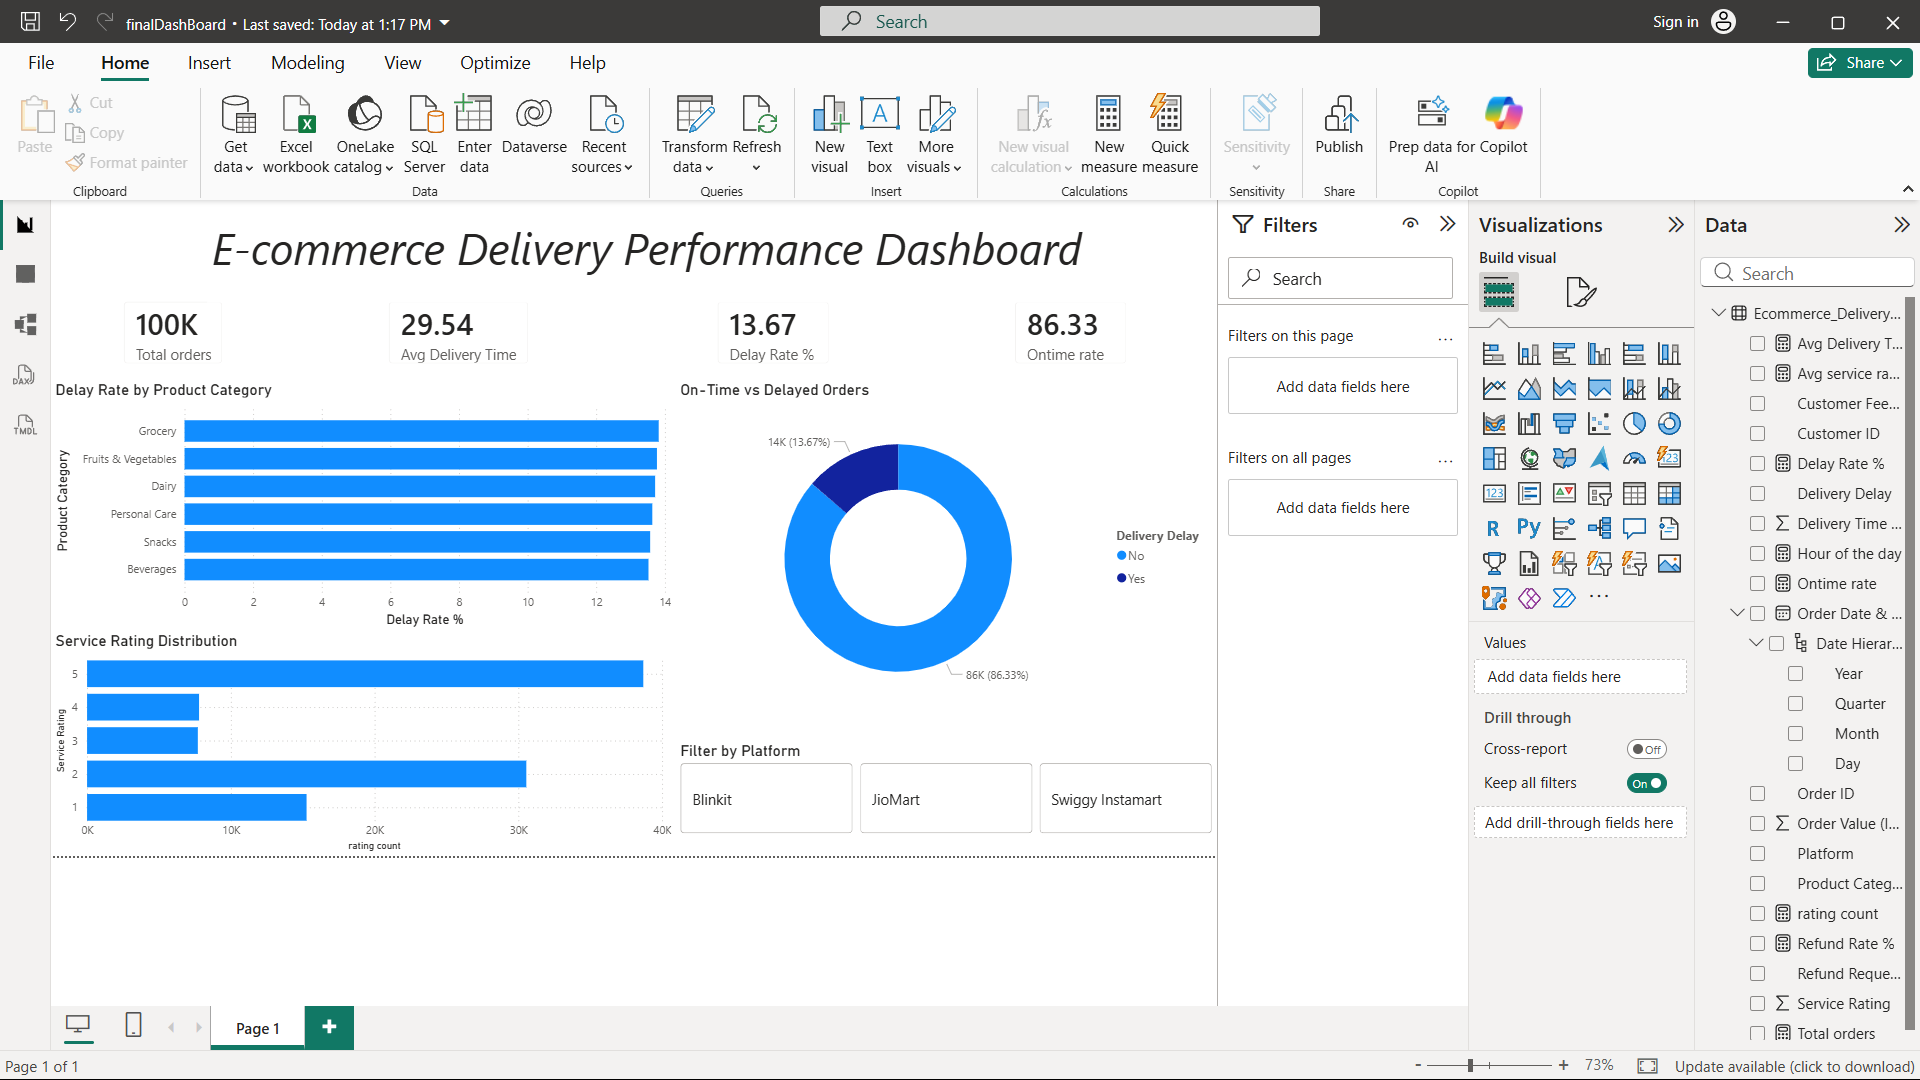

This screenshot's page, from the dashboard's own definition file:
{"tool":"powerbi","page":{"name":"Page 1","canvas":[1280,720],"ordinal":0},"visuals":[{"type":"cardVisual","fields":{"Data":["Ecommerce_Delivery_Analytics_Ne.Avg Delivery Time"]},"box":[354,94.7,188,102.9],"z":0},{"type":"cardVisual","fields":{"Data":["Ecommerce_Delivery_Analytics_Ne.Delay Rate %"]},"box":[714.9,94.7,156.4,102.9],"z":1000},{"type":"cardVisual","fields":{"Data":["Ecommerce_Delivery_Analytics_Ne.Total orders"]},"box":[63.1,94.7,142.7,102.9],"z":2000},{"type":"donutChart","title":"On-Time vs Delayed Orders","fields":{"Y":["Ecommerce_Delivery_Analytics_Ne.Total orders"],"Category":["Ecommerce_Delivery_Analytics_Ne.Delivery Delay"]},"box":[686.1,197.6,594.2,371.9],"z":3000},{"type":"cardVisual","fields":{"Data":["Ecommerce_Delivery_Analytics_Ne.Ontime rate"]},"box":[1041.5,94.7,156.4,102.9],"z":4000},{"type":"clusteredBarChart","title":"Service Rating Distribution","fields":{"Category":["Ecommerce_Delivery_Analytics_Ne.Service Rating"],"Y":["Ecommerce_Delivery_Analytics_Ne.rating count"]},"box":[0,473.4,686.1,247],"z":6000},{"type":"barChart","title":"Delay Rate by Product Category","fields":{"Category":["Ecommerce_Delivery_Analytics_Ne.Product Category"],"Y":["Ecommerce_Delivery_Analytics_Ne.Delay Rate %"]},"box":[0,197.6,686.1,275.8],"z":7000},{"type":"advancedSlicerVisual","title":"Filter by Platform","fields":{"Values":["Ecommerce_Delivery_Analytics_Ne.Platform"]},"box":[686.1,594.2,594.2,107],"z":7001},{"type":"textbox","box":[171.5,15.1,1026.4,97.4],"z":7002}]}

Visuals, with their boxes on the page's 1280x720 design canvas (x1, y1, x2, y2). These are canvas units, not pixel positions in the 1920x1080 screenshot, which may show the page scaled, cropped or inside an application window:
cardVisual - Ecommerce_Delivery_Analytics_Ne.Avg Delivery Time: l=354, t=95, r=542, b=198
cardVisual - Ecommerce_Delivery_Analytics_Ne.Delay Rate %: l=715, t=95, r=871, b=198
cardVisual - Ecommerce_Delivery_Analytics_Ne.Total orders: l=63, t=95, r=206, b=198
"On-Time vs Delayed Orders" donutChart: l=686, t=198, r=1280, b=570
cardVisual - Ecommerce_Delivery_Analytics_Ne.Ontime rate: l=1042, t=95, r=1198, b=198
"Service Rating Distribution" clusteredBarChart: l=0, t=473, r=686, b=720
"Delay Rate by Product Category" barChart: l=0, t=198, r=686, b=473
"Filter by Platform" advancedSlicerVisual: l=686, t=594, r=1280, b=701
textbox: l=172, t=15, r=1198, b=112
